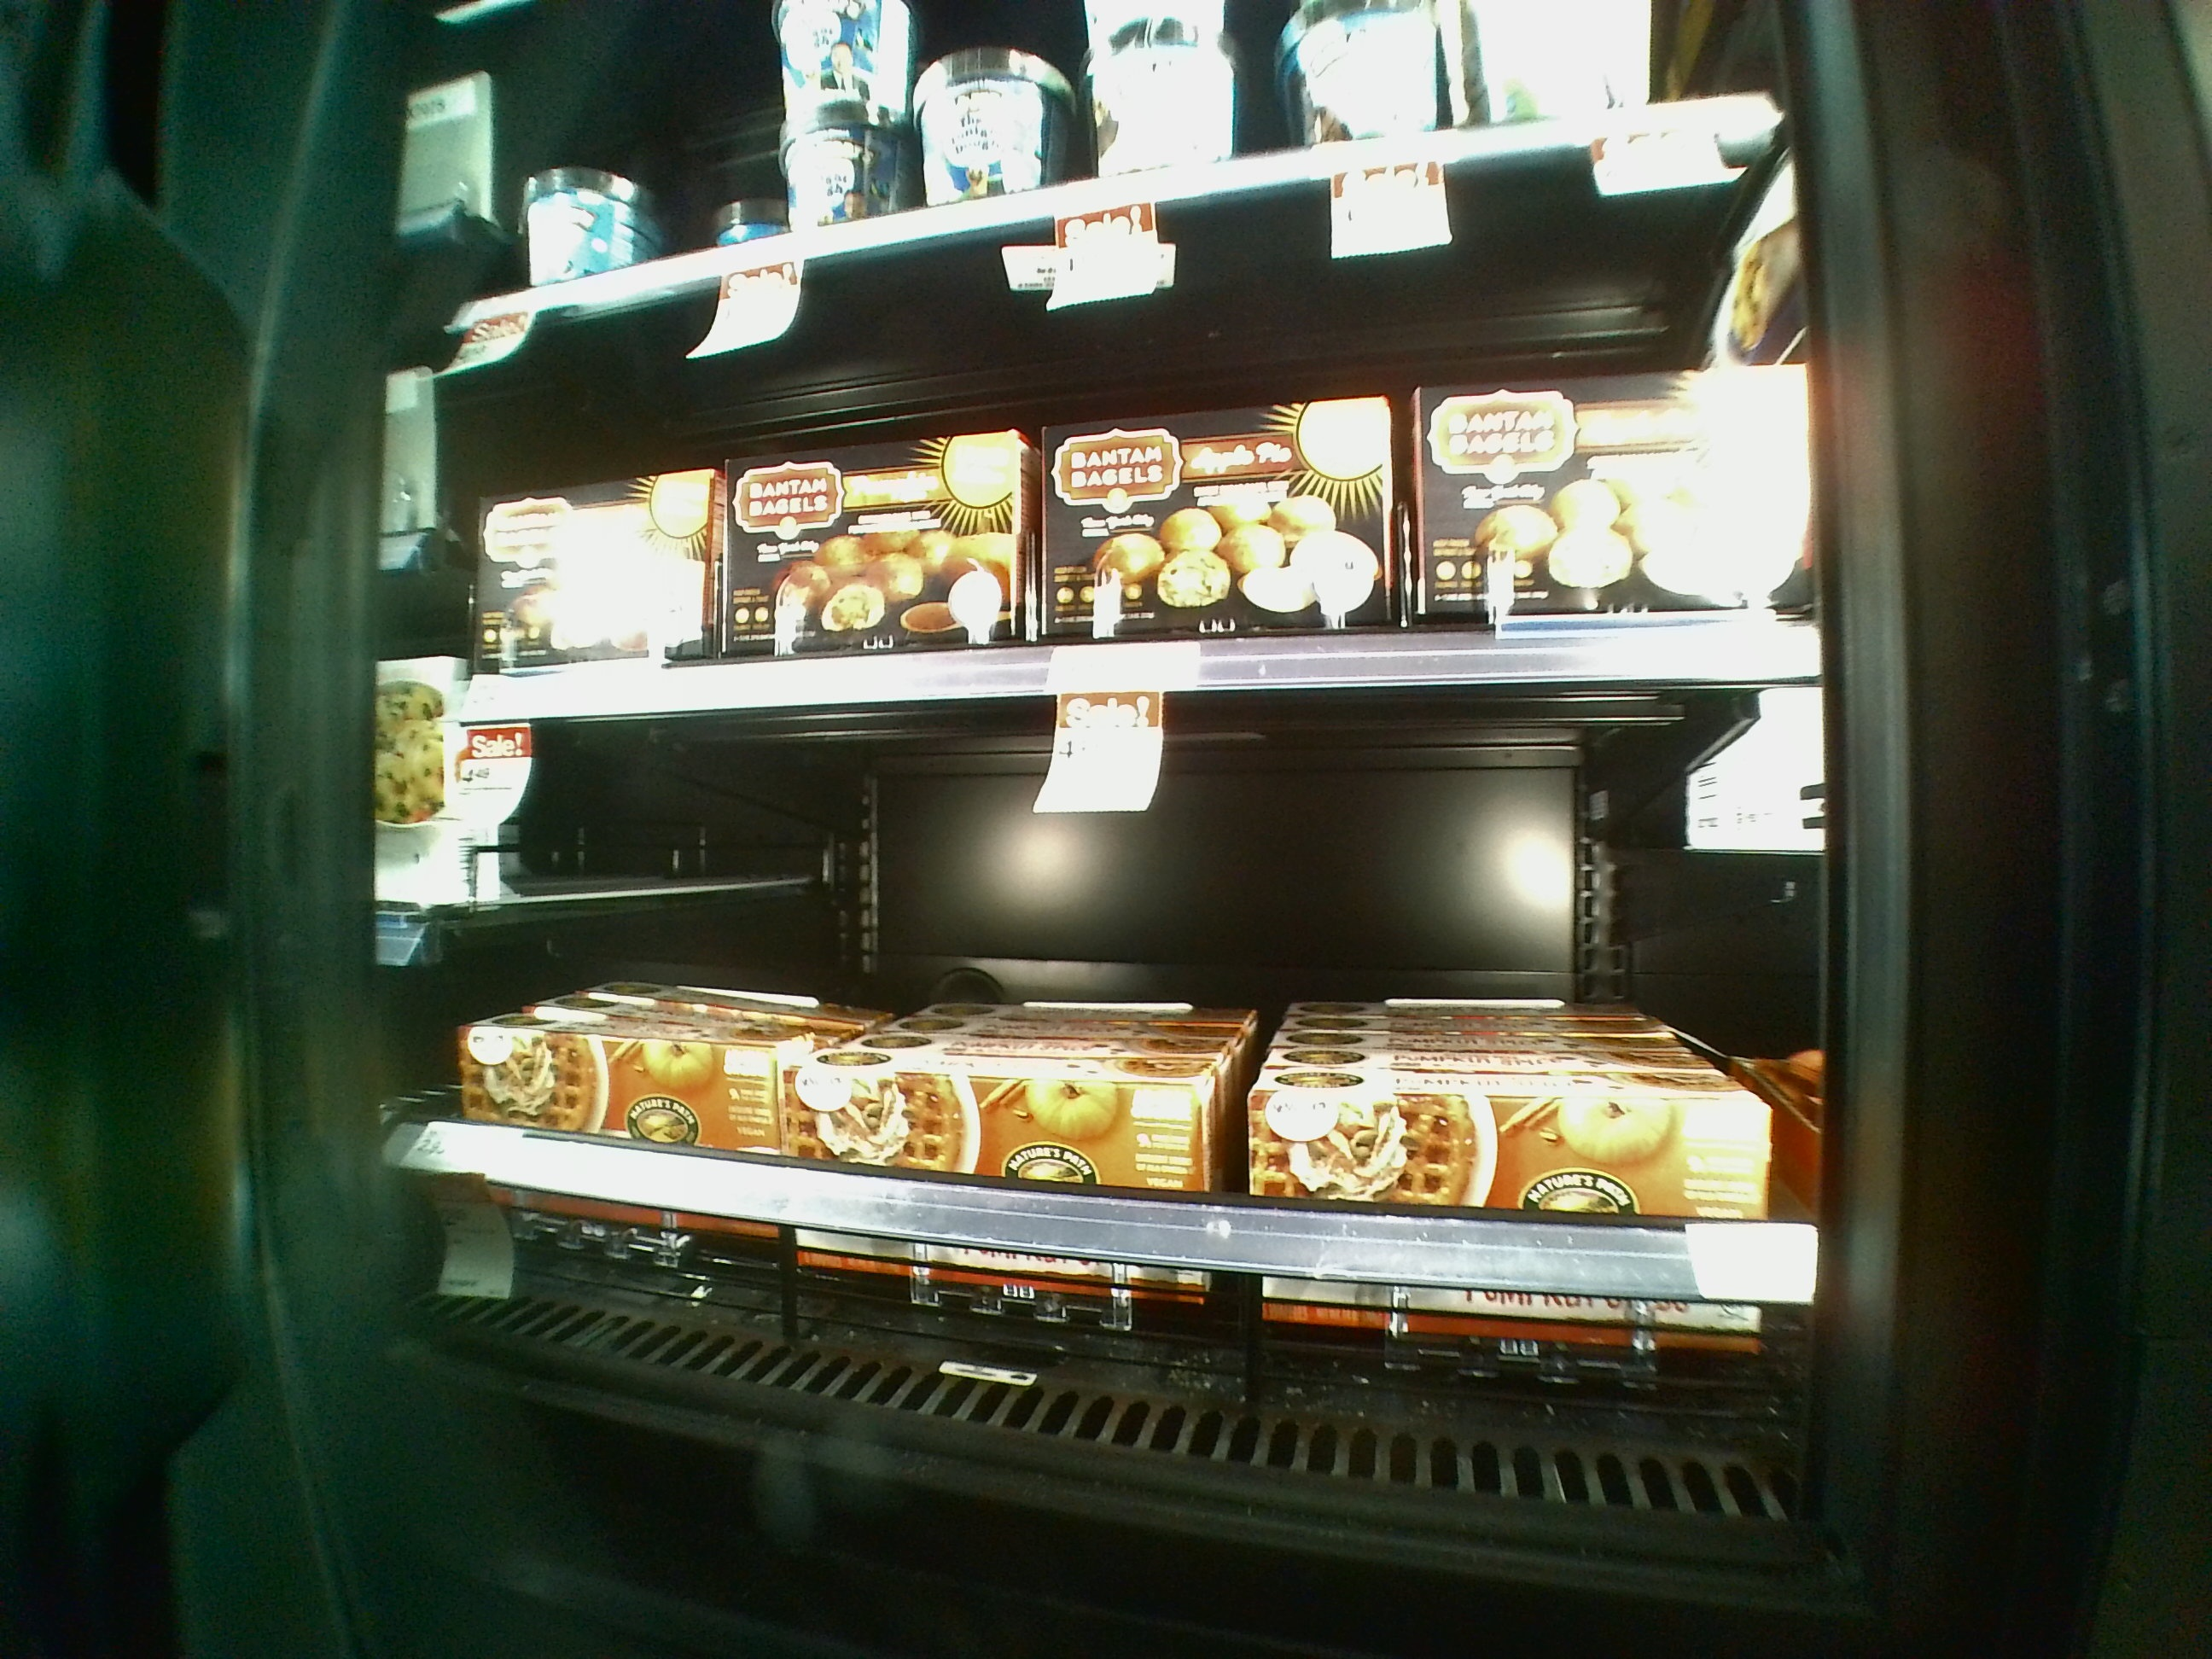shelf: (456, 664, 1820, 1549), (446, 244, 1787, 673)
